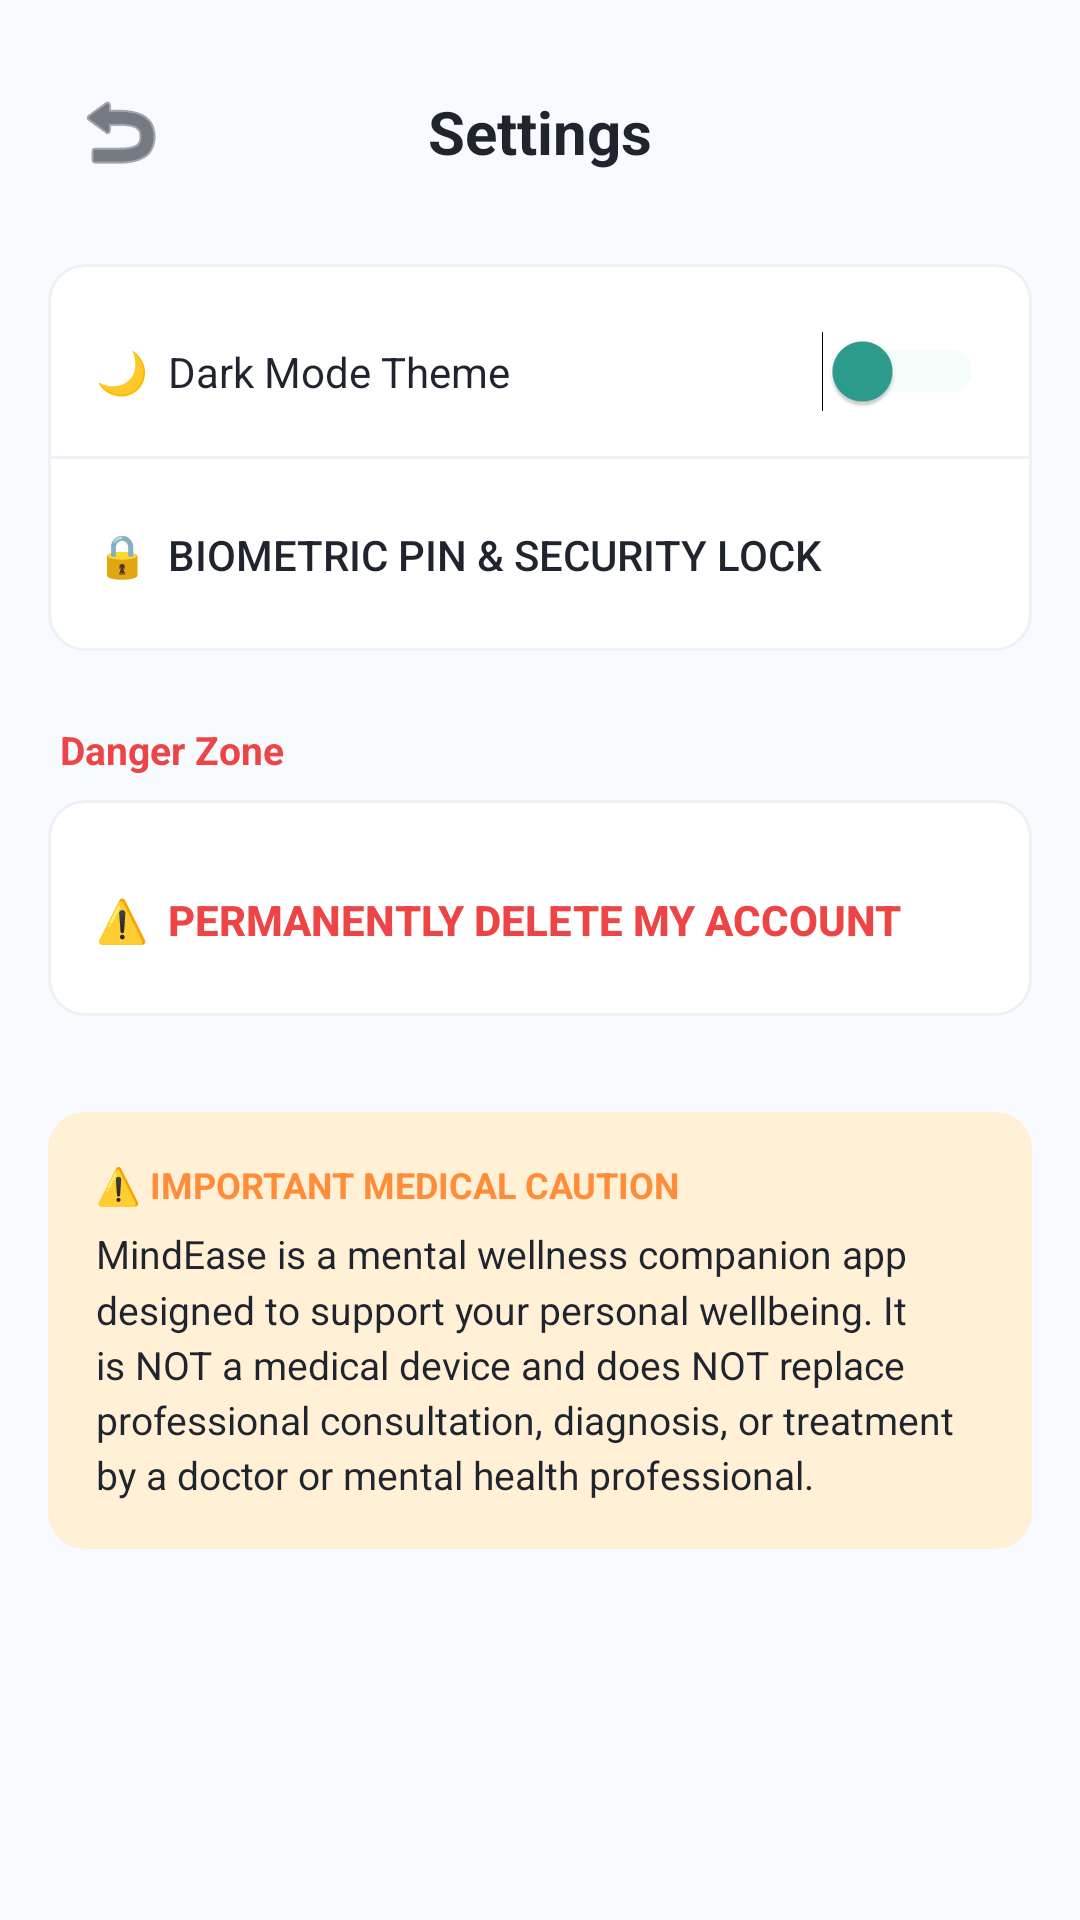

Screen size 1080*1920. Icon name, then its box in pixels as (x1, y1, x2, y2):
Back: (87, 101, 156, 164)
